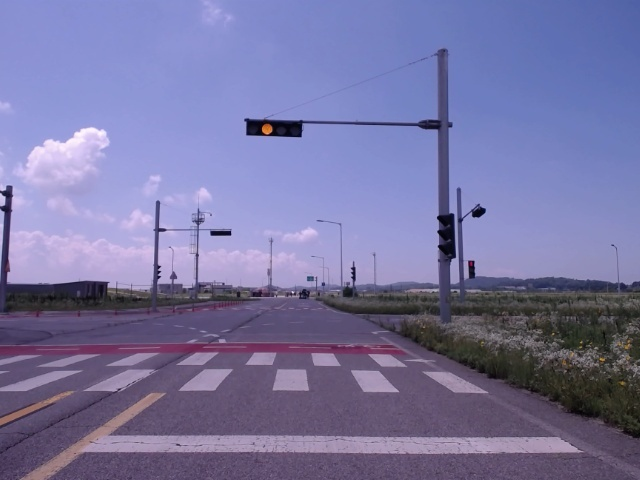orange_4: (247, 119, 303, 138)
